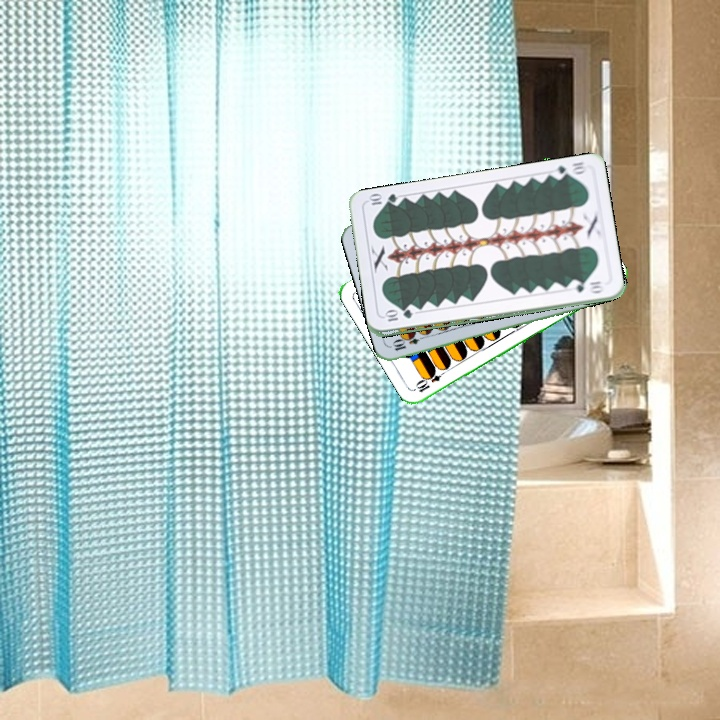E10: (412, 365, 449, 395), (389, 330, 429, 353)
G10: (548, 158, 589, 182), (381, 308, 416, 324)
